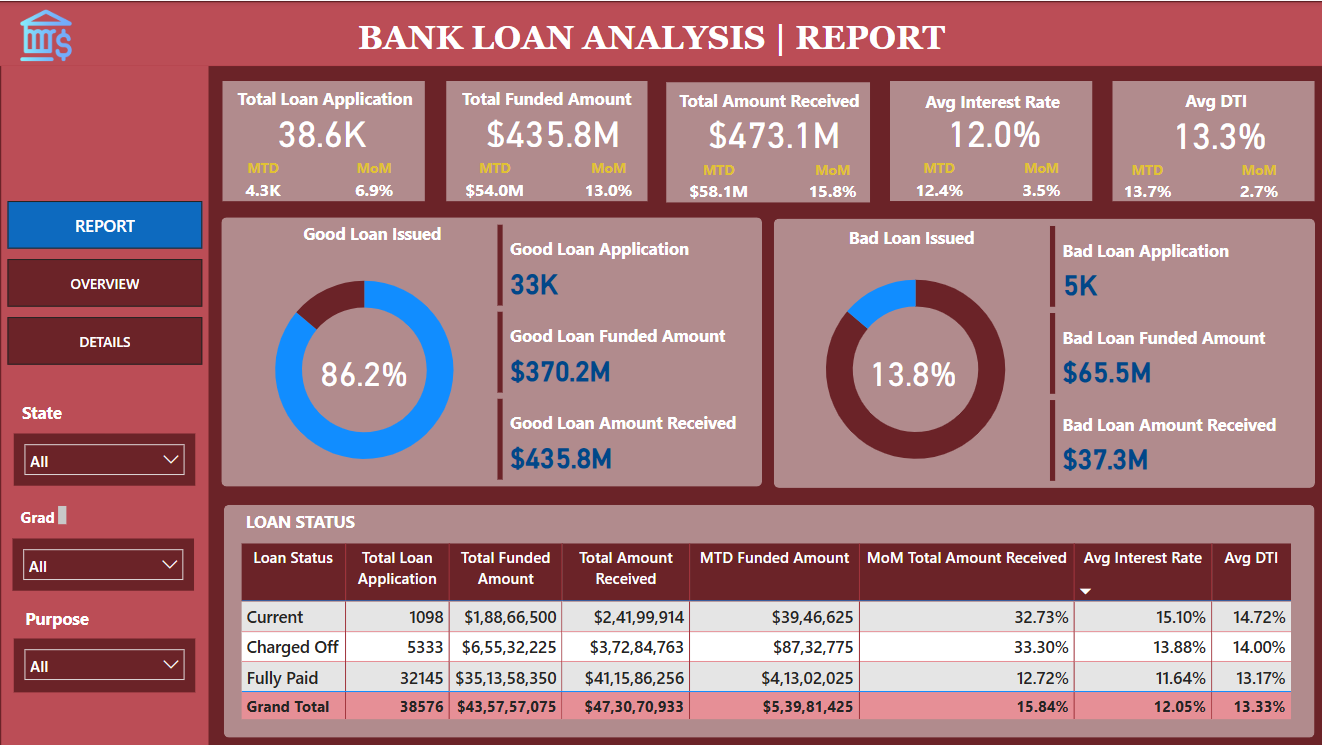

The page's visual inventory and layout, read from the dashboard file:
{"tool":"powerbi","page":{"name":"REPORT","canvas":[1280,720],"ordinal":0},"visuals":[{"type":"shape","box":[1.2,62.7,200.3,657.5],"z":0},{"type":"shape","box":[1073.8,76.7,195,116],"z":0,"group":"g5"},{"type":"shape","box":[215,77.5,195.7,116.2],"z":0,"group":"g1"},{"type":"shape","box":[430.2,77.5,194.2,116],"z":0,"group":"g2"},{"type":"shape","box":[859,77.5,195.5,116],"z":0,"group":"g4"},{"type":"shape","box":[643,77.9,196.7,116],"z":0,"group":"g3"},{"type":"textbox","box":[216.2,78.5,195.4,31.4],"z":1000,"group":"g1"},{"type":"textbox","box":[430.4,78.5,193.6,31.4],"z":1000,"group":"g2"},{"type":"textbox","box":[1096.5,78.5,154.2,32],"z":1000,"group":"g5"},{"type":"textbox","box":[644.1,78.6,196.4,31.4],"z":1000,"group":"g3"},{"type":"textbox","box":[859.8,80.6,195.5,31.8],"z":1000,"group":"g4"},{"type":"shape","box":[214.1,208.9,522,260],"z":1000},{"type":"shape","box":[0,1.2,1280,61.2],"z":2000},{"type":"card","fields":{"Values":["financial_loan.Total Loan Application"]},"box":[226.2,105.5,170.8,41.6],"z":2000,"group":"g1"},{"type":"card","fields":{"Values":["financial_loan.Total Funded Amount"]},"box":[448.6,105.5,170,41],"z":2000,"group":"g2"},{"type":"card","fields":{"Values":["financial_loan.Total Amount Received"]},"box":[662.1,105.5,170,40.8],"z":2000,"group":"g3"},{"type":"card","fields":{"Values":["financial_loan.Avg Interest Rate"]},"box":[875.1,105.5,170,40.8],"z":2000,"group":"g4"},{"type":"card","fields":{"Values":["financial_loan.Avg DTI"]},"box":[1091.4,105.5,170.5,43],"z":2000,"group":"g5"},{"type":"card","title":"MTD","fields":{"Values":["financial_loan.MTD Loan Application"]},"box":[222.1,152.5,63.6,44],"z":3000,"group":"g1"},{"type":"card","title":"MTD","fields":{"Values":["financial_loan.MTD Funded Amount"]},"box":[441.6,152.5,71.8,44],"z":3000,"group":"g2"},{"type":"card","title":"MTD","fields":{"Values":["financial_loan.MTD Total Amount Received"]},"box":[656.9,152.5,72.1,44],"z":3000,"group":"g3"},{"type":"card","title":"MTD","fields":{"Values":["financial_loan.MTD Avg Interest Rate"]},"box":[875.3,152.5,60.9,44],"z":3000,"group":"g4"},{"type":"card","title":"MTD","fields":{"Values":["financial_loan.MTD Avg DTI"]},"box":[1074.1,152.5,67.1,44],"z":3000,"group":"g5"},{"type":"textbox","box":[12.1,580.3,85.7,36.2],"z":3000},{"type":"card","title":"MoM","fields":{"Values":["financial_loan.MoM Loan Application"]},"box":[327.9,152.5,65.7,44],"z":4000,"group":"g1"},{"type":"card","title":"MoM","fields":{"Values":["financial_loan.MoM Total Funded Amount"]},"box":[555.5,152.5,62.1,44],"z":4000,"group":"g2"},{"type":"card","title":"MoM","fields":{"Values":["financial_loan.MoM Total Amount Received"]},"box":[771.2,152.5,65,44],"z":4000,"group":"g3"},{"type":"card","title":"MoM","fields":{"Values":["financial_loan.MoM Interest Rate"]},"box":[978.4,152.5,53.3,44],"z":4000,"group":"g4"},{"type":"card","title":"MoM","fields":{"Values":["financial_loan.MoM Avg DTI"]},"box":[1183.4,152.5,63.3,44],"z":4000,"group":"g5"},{"type":"textbox","box":[265,208.8,187.5,36.2],"z":4000},{"type":"textbox","box":[340.2,12.1,602,49.5],"z":5000},{"type":"donutChart","fields":{"Category":["financial_loan.Good vs Bad Loan"],"Y":["financial_loan.Total Loan Application"]},"box":[226.2,243.8,250,225],"z":6000},{"type":"card","fields":{"Values":["financial_loan.Good Loan %"]},"box":[303.6,335.3,95.3,44.5],"z":7000},{"type":"group","id":"g1","title":"Group 1","box":[215,77.5,196.6,119],"z":8000},{"type":"group","id":"g2","title":"Group 1","box":[430.2,77.5,194.2,119],"z":9000},{"type":"group","id":"g3","title":"Group 1","box":[643,77.9,197.5,118.6],"z":10000},{"type":"shape","box":[216.2,486.2,1053.8,225],"z":11000},{"type":"group","id":"g4","title":"Group 1","box":[859,77.5,196.2,119],"z":12000},{"type":"group","id":"g5","title":"Group 1","box":[1073.8,76.7,195,119.8],"z":13000},{"type":"shape","box":[746.3,209.8,522,260.4],"z":14000},{"type":"cardVisual","fields":{"Data":["financial_loan.Good Loan Application","financial_loan.Good Funded Amount","financial_loan.Good Loan Amount Received"]},"box":[475,211.2,260,258.8],"z":15000},{"type":"donutChart","fields":{"Category":["financial_loan.Good vs Bad Loan"],"Y":["financial_loan.Total Loan Application"]},"box":[758.8,242.5,250,226.2],"z":16000},{"type":"textbox","box":[786.2,212.5,186.2,32.5],"z":17000},{"type":"card","fields":{"Values":["financial_loan.Bad Loan %"]},"box":[833.2,335.3,95.3,44.5],"z":18000},{"type":"cardVisual","fields":{"Data":["financial_loan.Bad Loan Application","financial_loan.Bad Loan Funded Amount","financial_loan.Bad Loan Amount Received"]},"box":[1008.8,212.5,260,258.8],"z":19000},{"type":"tableEx","fields":{"Values":["financial_loan.loan_status","financial_loan.Total Loan Application","financial_loan.Total Funded Amount","financial_loan.Total Amount Received","financial_loan.MTD Funded Amount","financial_loan.MoM Total Amount Received","financial_loan.Avg Interest Rate","financial_loan.Avg DTI"]},"box":[226.2,518.8,1032.5,192.5],"z":20000},{"type":"textbox","box":[227.5,486.2,123.8,32.5],"z":21000},{"type":"slicer","fields":{"Values":["financial_loan.address_state"]},"box":[13.3,417.4,174.9,50.7],"z":22000},{"type":"textbox","box":[12.1,381.2,56.7,36.2],"z":23000},{"type":"textbox","box":[12.1,482.6,56.7,36.2],"z":24000},{"type":"slicer","fields":{"Values":["financial_loan.grade"]},"box":[12.1,518.8,174.9,50.7],"z":25000},{"type":"slicer","fields":{"Values":["financial_loan.purpose"]},"box":[13.3,615.3,174.9,51.9],"z":26000},{"type":"image","box":[1.2,3.6,86.9,59.1],"z":27000},{"type":"pageNavigator","box":[7.2,193,188.2,158],"z":28000}]}

Visuals, with their boxes in screenshot pixels (x1, y1, x2, y2), scaled from the page's 1280x720 canvas onto the 1322x745 screenshot:
shape: 1:65:208:744
shape: 1109:79:1310:199
shape: 222:80:424:200
shape: 444:80:645:200
shape: 887:80:1089:200
shape: 664:81:867:201
textbox: 223:81:425:114
textbox: 445:81:644:114
textbox: 1132:81:1292:114
textbox: 665:81:868:114
textbox: 888:83:1090:116
shape: 221:216:760:485
shape: 0:1:1321:65
card - financial_loan.Total Loan Application: 234:109:410:152
card - financial_loan.Total Funded Amount: 463:109:639:152
card - financial_loan.Total Amount Received: 684:109:859:151
card - financial_loan.Avg Interest Rate: 904:109:1079:151
card - financial_loan.Avg DTI: 1127:109:1303:154
"MTD" card: 229:158:295:203
"MTD" card: 456:158:530:203
"MTD" card: 678:158:753:203
"MTD" card: 904:158:967:203
"MTD" card: 1109:158:1179:203
textbox: 12:600:101:638
"MoM" card: 339:158:407:203
"MoM" card: 574:158:638:203
"MoM" card: 797:158:864:203
"MoM" card: 1011:158:1066:203
"MoM" card: 1222:158:1288:203
textbox: 274:216:467:254
textbox: 351:13:973:64
donutChart - financial_loan.Good vs Bad Loan x financial_loan.Total Loan Application: 234:252:492:485
card - financial_loan.Good Loan %: 314:347:412:393
"Group 1" group: 222:80:425:203
"Group 1" group: 444:80:645:203
"Group 1" group: 664:81:868:203
shape: 223:503:1312:736
"Group 1" group: 887:80:1090:203
"Group 1" group: 1109:79:1310:203
shape: 771:217:1310:487
cardVisual - financial_loan.Good Loan Application x financial_loan.Good Funded Amount: 491:219:759:486
donutChart - financial_loan.Good vs Bad Loan x financial_loan.Total Loan Application: 784:251:1042:485
textbox: 812:220:1004:254
card - financial_loan.Bad Loan %: 861:347:959:393
cardVisual - financial_loan.Bad Loan Application x financial_loan.Bad Loan Funded Amount: 1042:220:1310:488
tableEx - financial_loan.loan_status x financial_loan.Total Loan Application: 234:537:1300:736
textbox: 235:503:363:537
slicer - financial_loan.address_state: 14:432:194:484
textbox: 12:394:71:432
textbox: 12:499:71:537
slicer - financial_loan.grade: 12:537:193:589
slicer - financial_loan.purpose: 14:637:194:690
image: 1:4:91:65
pageNavigator: 7:200:202:363
